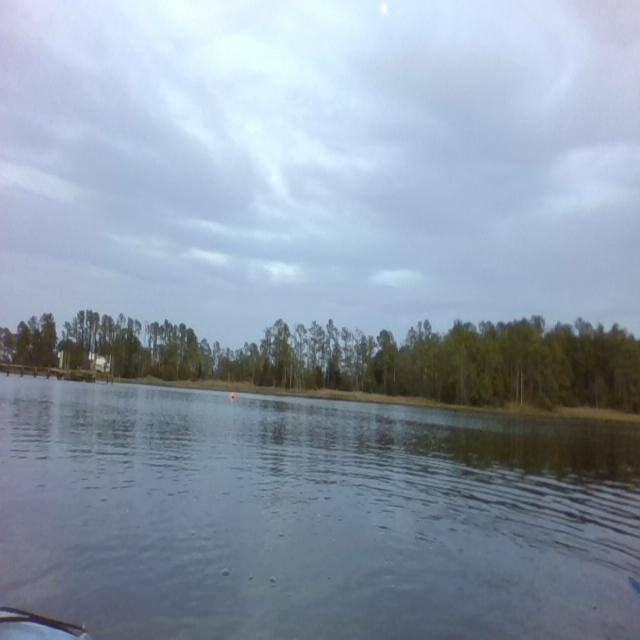Buoy: (229, 388, 237, 400)
